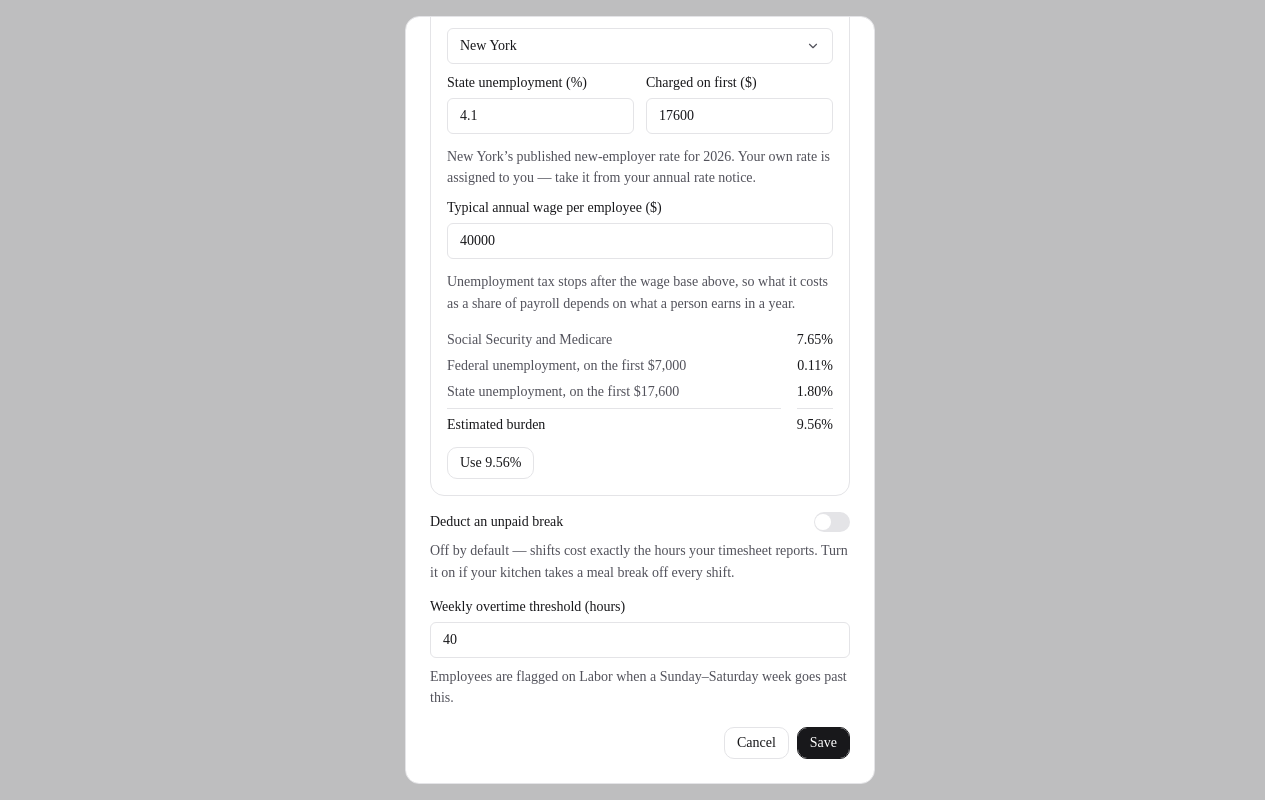
Test: the payroll tax and its estimator › estimates a US burden against the wage base rather than adding rates
The width and height of the screenshot is (1280, 800).
(page scrolled)
Expected: the field labelled "State unemployment (%)" holds "4.1", x1=447 y1=98 x2=634 y2=134
Expected: the field labelled "Charged on first ($)" holds "17600", x1=646 y1=98 x2=833 y2=134
Click the button "Use 9.56%".
click(491, 463)  # box x1=447 y1=447 x2=534 y2=479
(page scrolled)
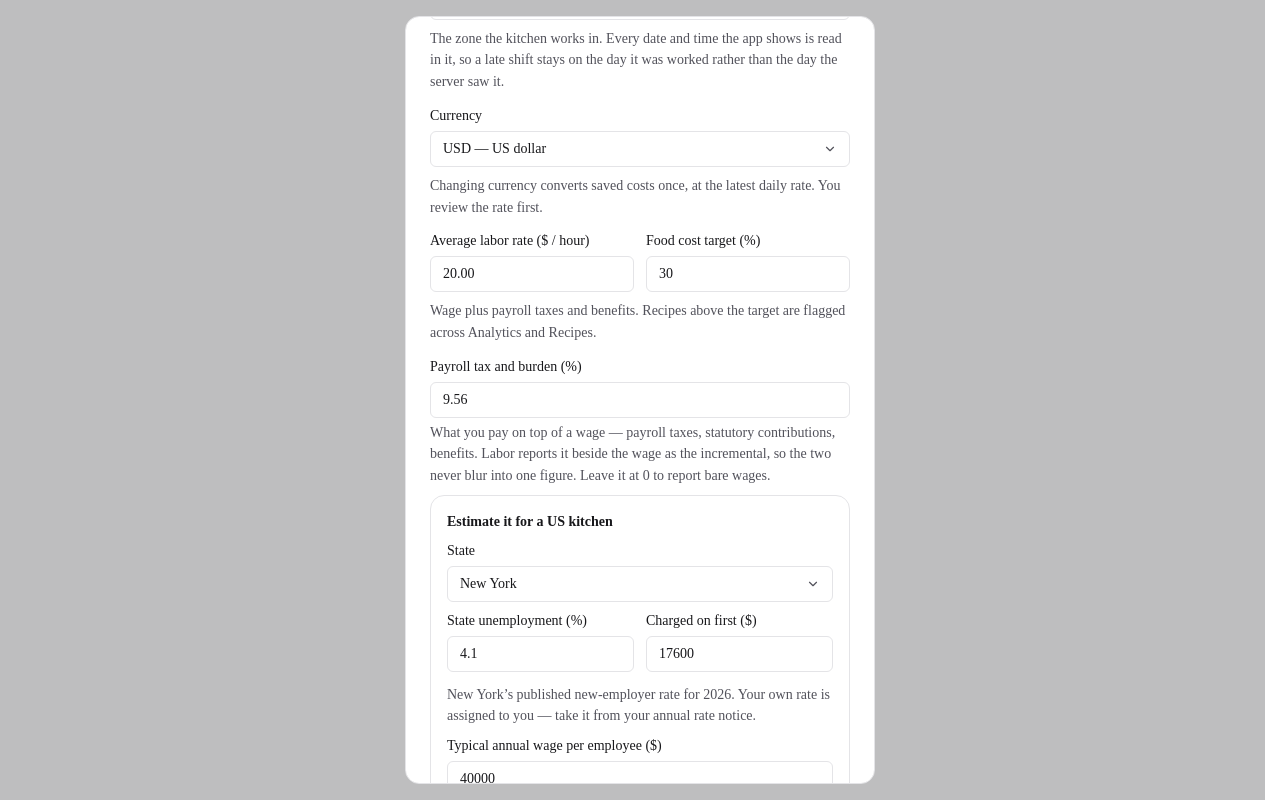
Result: the field labelled "Payroll tax and burden (%)" holds "9.56" at x1=430 y1=382 x2=850 y2=418
